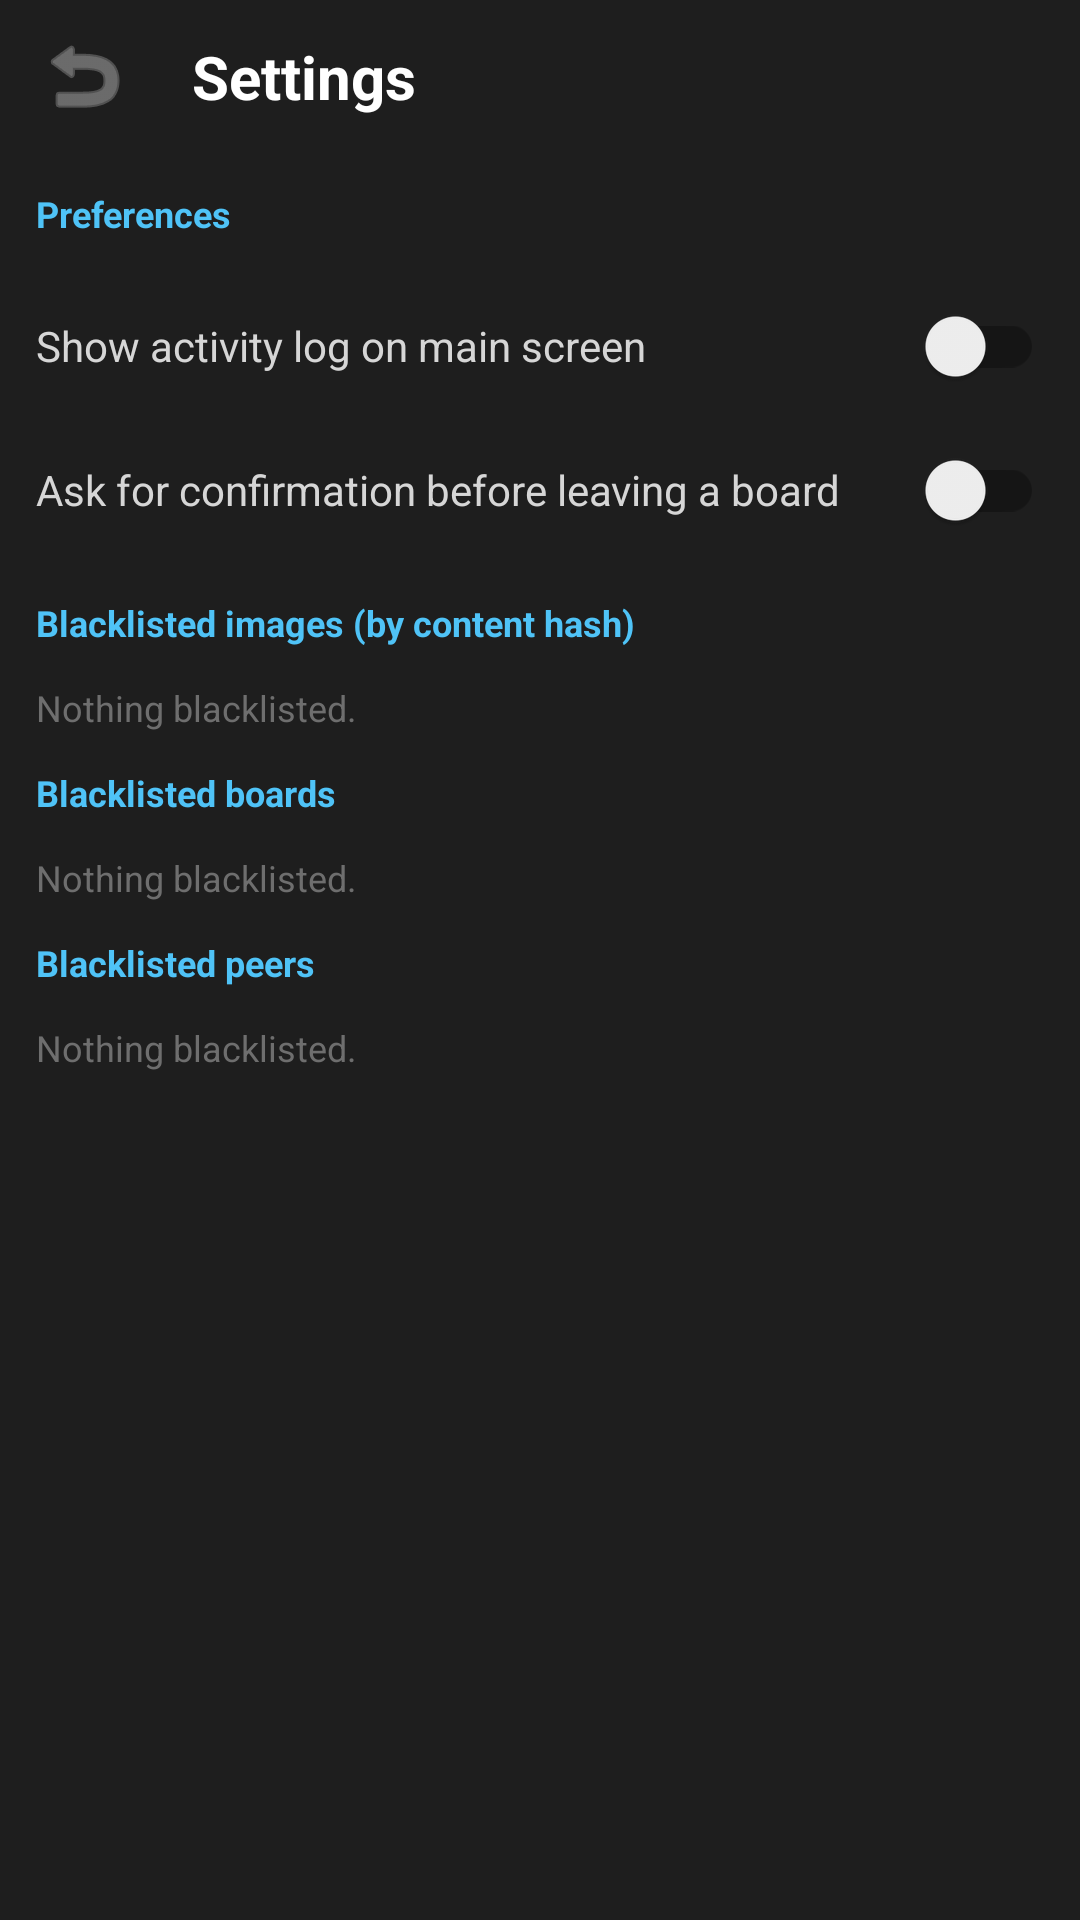

Where icons sit on this 1080x1920 app screen, as (x1, y1, x2, y2):
Back: (51, 46, 120, 108)
